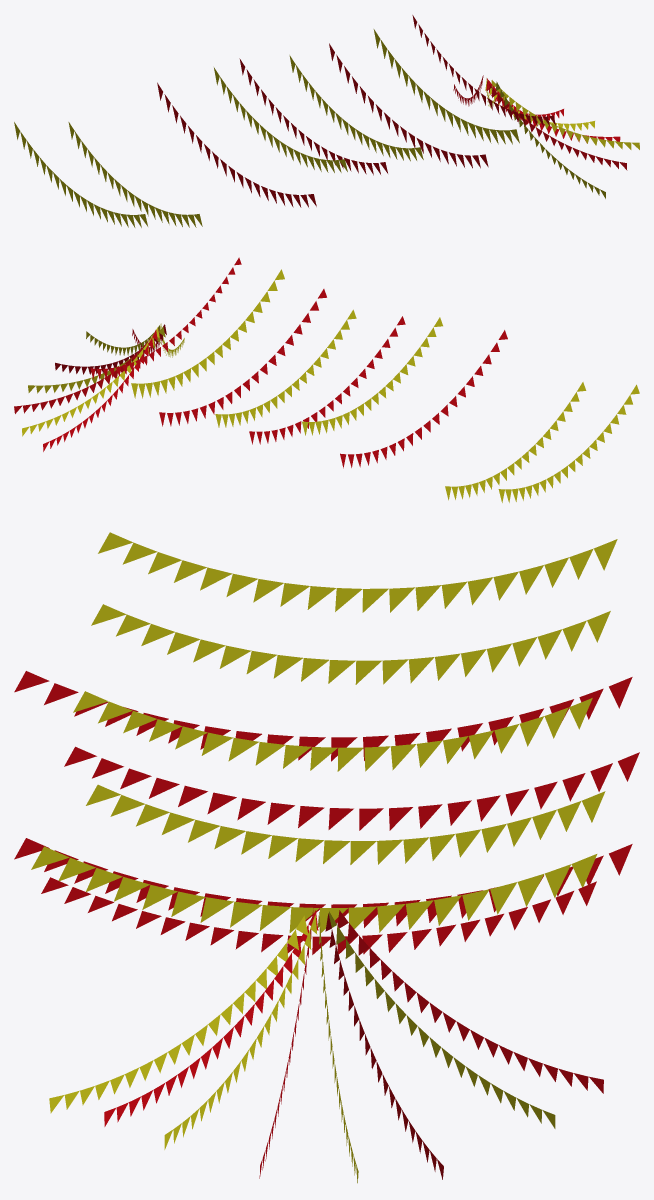
Rendered from flag.glb.
3 views of the same model, one above another, from view 1: azimuth 30°, elevation 25°; view 2: azimuth 150°, elevation 25°; view 3: azimuth 270°, elevation 25° (orthographic). The views are drawn at different scales.
Parts seen in each view (by area): view 1: Plane.029, Plane.036, Plane.030, Plane.032, Plane.035, Plane.034, Plane.038, Plane.033, Plane.031, Plane.012, Plane.011, Plane.013 (+1 smaller); view 2: Plane.029, Plane.036, Plane.035, Plane.030, Plane.038, Plane.034, Plane.032, Plane.033, Plane.031, Plane.015, Plane.014, Plane.016 (+3 smaller); view 3: Plane.029, Plane.038, Plane.034, Plane.036, Plane.032, Plane.033, Plane.035, Plane.031, Plane.030, Plane.013, Plane.014, Plane.015 (+3 smaller).
Part boxes in pixels (<box>): Plane.029: <box>373,29,519,144</box>; Plane.036: <box>68,122,202,227</box>; Plane.030: <box>329,43,488,168</box>; Plane.032: <box>289,55,423,161</box>; Plane.035: <box>157,82,316,207</box>; Plane.034: <box>214,67,347,172</box>; Plane.038: <box>14,122,147,227</box>; Plane.033: <box>239,58,387,175</box>; Plane.031: <box>412,15,555,126</box>; Plane.012: <box>491,80,639,149</box>; Plane.011: <box>486,81,627,170</box>; Plane.013: <box>495,81,605,198</box>; Plane.029: <box>131,269,284,398</box>; Plane.036: <box>445,382,586,500</box>; Plane.035: <box>340,330,507,468</box>; Plane.030: <box>159,289,326,426</box>; Plane.038: <box>498,384,639,502</box>; Plane.034: <box>302,317,442,435</box>; Plane.032: <box>215,309,356,427</box>; Plane.033: <box>249,316,405,444</box>; Plane.031: <box>90,257,241,379</box>; Plane.015: <box>22,327,159,436</box>; Plane.014: <box>43,330,157,451</box>; Plane.016: <box>14,328,160,413</box>; Plane.029: <box>31,846,597,932</box>; Plane.038: <box>98,532,617,612</box>; Plane.034: <box>73,691,592,771</box>; Plane.036: <box>91,604,610,684</box>; Plane.032: <box>86,784,605,864</box>; Plane.033: <box>64,746,639,830</box>; Plane.035: <box>14,671,632,761</box>; Plane.031: <box>41,877,596,954</box>; Plane.030: <box>14,838,632,927</box>; Plane.013: <box>49,915,308,1113</box>; Plane.014: <box>337,910,603,1093</box>; Plane.015: <box>328,911,555,1128</box>.
Bounding box in the file's own units: 34.53 × 6.58 × 18.81.
